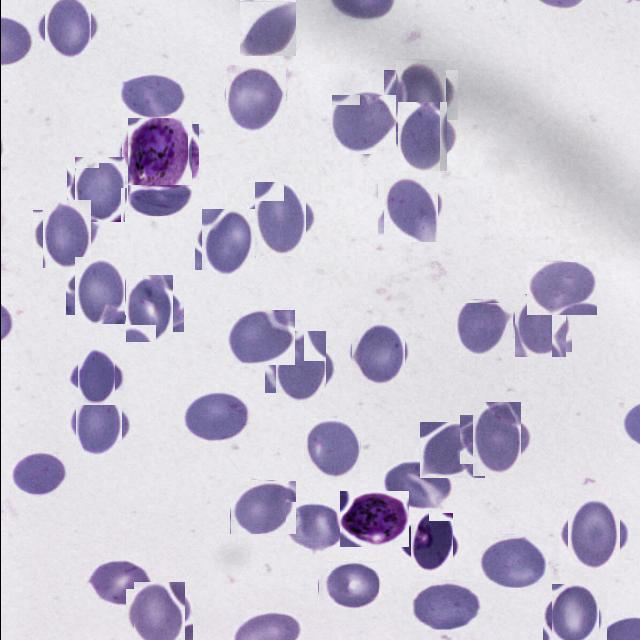difficult: (339, 491, 408, 547)
red blood cell: (223, 66, 287, 130), (389, 64, 452, 126), (178, 390, 250, 444), (248, 188, 310, 250), (332, 93, 394, 155), (476, 534, 547, 588), (225, 310, 294, 365), (269, 337, 331, 398), (562, 504, 624, 564), (526, 262, 596, 315), (466, 409, 526, 470), (419, 422, 484, 478), (198, 213, 258, 273), (409, 580, 481, 630), (380, 179, 440, 239), (229, 480, 295, 534), (37, 204, 96, 264), (70, 260, 128, 320), (392, 108, 452, 166), (454, 298, 512, 356), (302, 420, 360, 478), (348, 324, 406, 382), (70, 160, 128, 218), (120, 280, 178, 338), (382, 462, 452, 510), (511, 297, 568, 355), (128, 585, 188, 640), (87, 560, 155, 608), (117, 73, 185, 120), (70, 397, 126, 453), (240, 0, 296, 56), (317, 562, 378, 610), (39, 0, 94, 53), (285, 502, 342, 553), (546, 588, 601, 640), (404, 518, 456, 570), (8, 452, 65, 497), (72, 353, 120, 401), (126, 184, 191, 216)
schizont: (124, 120, 194, 192)
